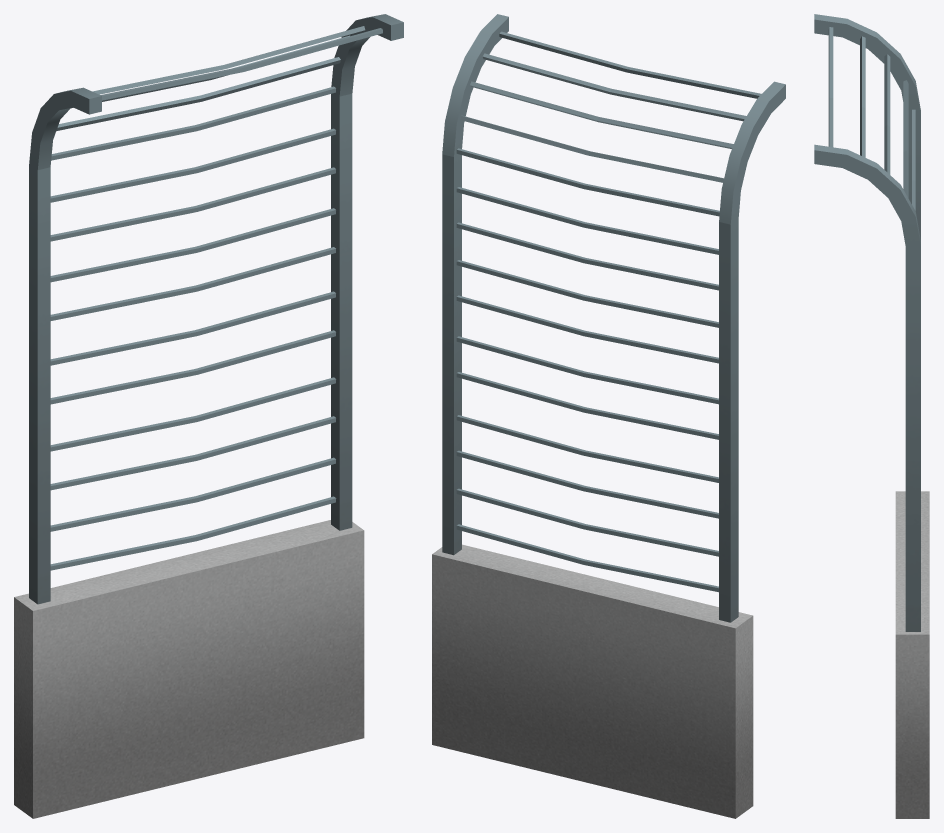
Rendered from prop_wall_C.FBX.
3 renders of one model, left to right at view 1: azimuth 30°, elevation 25°; view 2: azimuth 150°, elevation 25°; view 3: azimuth 270°, elevation 25°, orthographic. The views are drawn at different scales.
Parts seen in each view (by area): view 1: wall_c; view 2: wall_c; view 3: wall_c.
Part boxes in pixels (bbox=[...]): wall_c: bbox=[14, 14, 403, 818]; wall_c: bbox=[432, 14, 785, 818]; wall_c: bbox=[814, 14, 929, 818].
Size of the model in its own units: 78.74 by 171 by 26.79.
